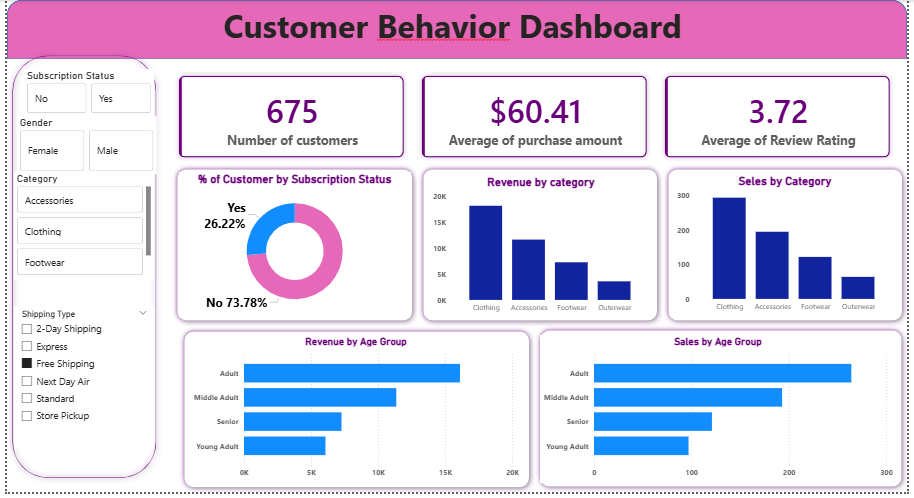

This screenshot's page, from the dashboard's own definition file:
{"tool":"powerbi","page":{"name":"Page 1","canvas":[1500,820],"ordinal":0},"visuals":[{"type":"cardVisual","fields":{"Data":["public customer.Number of customers","public customer.Average of purchase amount","public customer.Average of Review Rating"]},"box":[257.9,98.4,1242.1,192.9],"z":0},{"type":"shape","box":[0,0,1500,98.4],"z":1000},{"type":"textbox","box":[0,0,1500,98.4],"z":2000},{"type":"shape","box":[275.6,273.6,409.4,269.7],"z":3000},{"type":"shape","box":[685,273.6,407.5,269.7],"z":4000},{"type":"shape","box":[1092.5,273.6,407.5,269.7],"z":5000},{"type":"donutChart","title":"% of Customer by  Subscription  Status","fields":{"Category":["public customer.Subscription Status"],"Y":["CountNonNull(public customer.Customer ID)"]},"box":[287.4,287.4,385.8,242.1],"z":6000},{"type":"clusteredColumnChart","title":"Revenue by category","fields":{"Category":["public customer.Category"],"Y":["Sum(public customer.Purchase Amount (USD))"]},"box":[704.7,291.3,370.1,238.2],"z":7000},{"type":"clusteredColumnChart","title":"Seles by Category","fields":{"Category":["public customer.Category"],"Y":["CountNonNull(public customer.Customer ID)"]},"box":[1112.2,289.4,370.1,238.2],"z":8000},{"type":"shape","box":[0,82.7,257.9,722.4],"z":9000},{"type":"advancedSlicerVisual","fields":{"Values":["public customer.Subscription Status"]},"box":[28.9,115.5,216.6,78.4],"z":10000},{"type":"advancedSlicerVisual","fields":{"Values":["public customer.Gender"]},"box":[16.5,193.9,233.1,97],"z":11000},{"type":"slicer","fields":{"Values":["public customer.Shipping Type"]},"box":[11.8,509.8,234.3,238.2],"z":12000},{"type":"advancedSlicerVisual","fields":{"Values":["public customer.Category"]},"box":[12.4,286.8,233.1,179.5],"z":13000},{"type":"clusteredBarChart","title":"Sales by Age Group","fields":{"Category":["public customer.Age Group"],"Y":["CountNonNull(public customer.Customer ID)"]},"box":[893.3,558.3,593.3,246.7],"z":14000},{"type":"shape","box":[287.4,543.3,592.5,277.6],"z":15000},{"type":"shape","box":[880,541.7,620,278.3],"z":16000},{"type":"clusteredBarChart","title":"Revenue by Age Group","fields":{"Y":["Sum(public customer.Purchase Amount (USD))"],"Category":["public customer.Age Group"]},"box":[305,558.3,553.3,246.7],"z":17000},{"type":"clusteredBarChart","title":"Sales by Age Group","fields":{"Category":["public customer.Age Group"],"Y":["CountNonNull(public customer.Customer ID)"]},"box":[888.3,558.3,593.3,246.7],"z":18000}]}

Visuals, with their boxes in screenshot pixels (x1, y1, x2, y2), scaled from the page's 1500x820 canvas onto the 914x498 screenshot:
cardVisual - public customer.Number of customers x public customer.Average of purchase amount: detection(157, 60, 913, 177)
shape: detection(0, 0, 913, 60)
textbox: detection(0, 0, 913, 60)
shape: detection(168, 166, 417, 330)
shape: detection(417, 166, 666, 330)
shape: detection(666, 166, 913, 330)
"% of Customer by  Subscription  Status" donutChart: detection(175, 175, 410, 322)
"Revenue by category" clusteredColumnChart: detection(429, 177, 655, 322)
"Seles by Category" clusteredColumnChart: detection(678, 176, 903, 320)
shape: detection(0, 50, 157, 489)
advancedSlicerVisual - public customer.Subscription Status: detection(18, 70, 150, 118)
advancedSlicerVisual - public customer.Gender: detection(10, 118, 152, 177)
slicer - public customer.Shipping Type: detection(7, 310, 150, 454)
advancedSlicerVisual - public customer.Category: detection(8, 174, 150, 283)
"Sales by Age Group" clusteredBarChart: detection(544, 339, 906, 489)
shape: detection(175, 330, 536, 497)
shape: detection(536, 329, 913, 497)
"Revenue by Age Group" clusteredBarChart: detection(186, 339, 523, 489)
"Sales by Age Group" clusteredBarChart: detection(541, 339, 903, 489)
